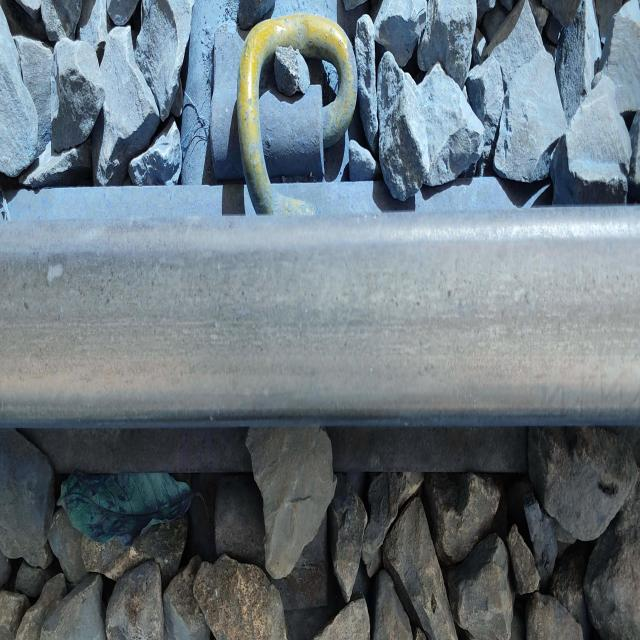Good Fasteners: (165, 0, 386, 234)
Missing Fastener: (192, 446, 362, 631)
